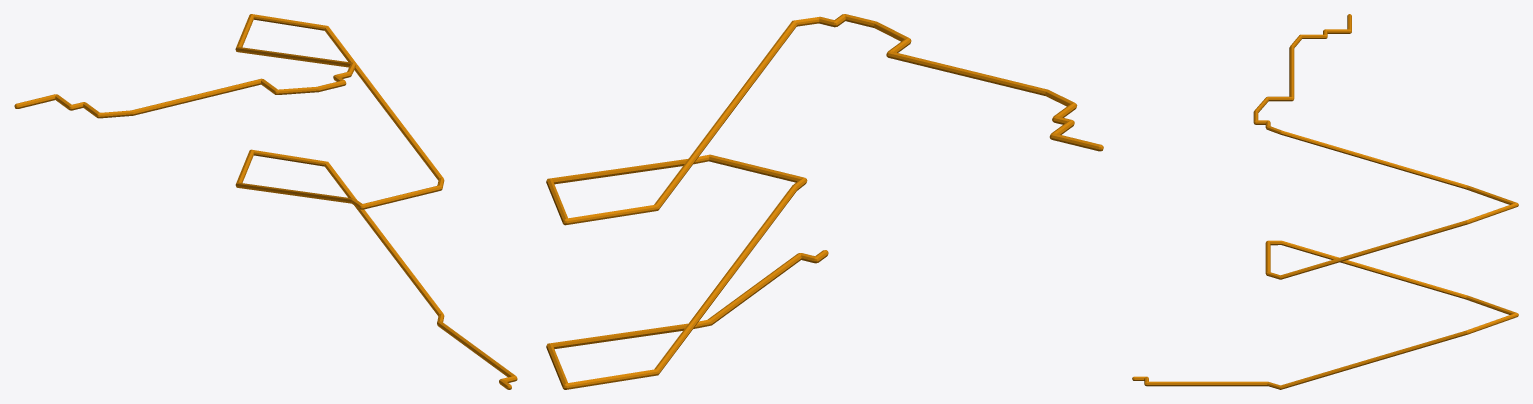
3 renders of one model, left to right at view 1: azimuth 30°, elevation 25°; view 2: azimuth 150°, elevation 25°; view 3: azimuth 270°, elevation 25°, orthographic. The views are drawn at different scales.
Bounding box in the file's own units: 1492 × 1020 × 1592.
